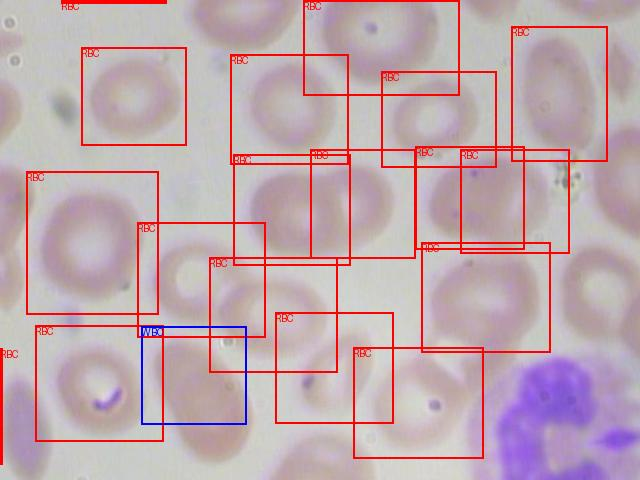RBC: (26, 171, 158, 314), (35, 325, 163, 441), (303, 0, 459, 95), (209, 257, 337, 372), (137, 222, 265, 337), (353, 347, 483, 458), (421, 242, 550, 352), (275, 312, 393, 423), (233, 154, 350, 265), (230, 54, 348, 164), (511, 26, 607, 161), (310, 149, 415, 258), (460, 149, 569, 253), (415, 146, 524, 249), (381, 71, 496, 167), (81, 47, 186, 145), (61, 0, 166, 3), (0, 348, 2, 464)
WBC: (141, 326, 246, 424)
